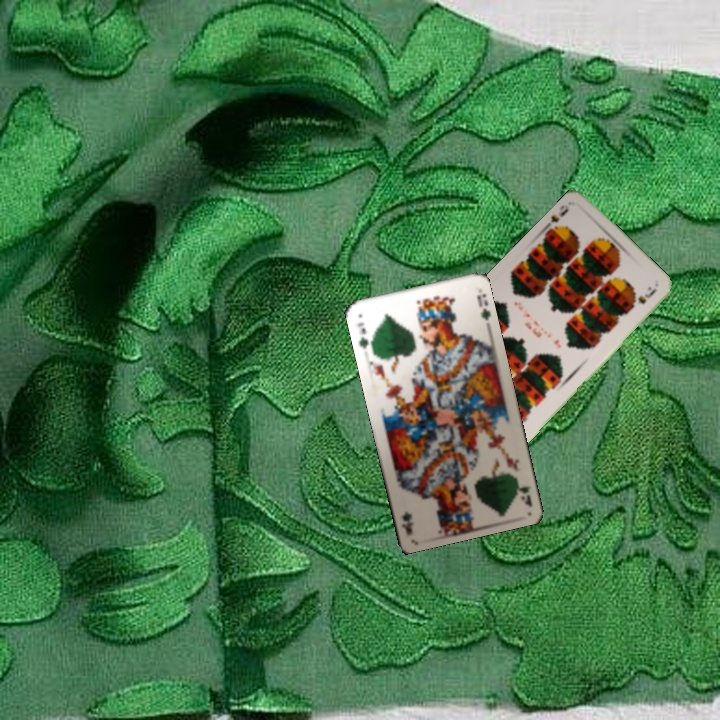GK: (510, 471, 534, 509), (353, 318, 371, 351)
S9: (540, 201, 571, 235)
